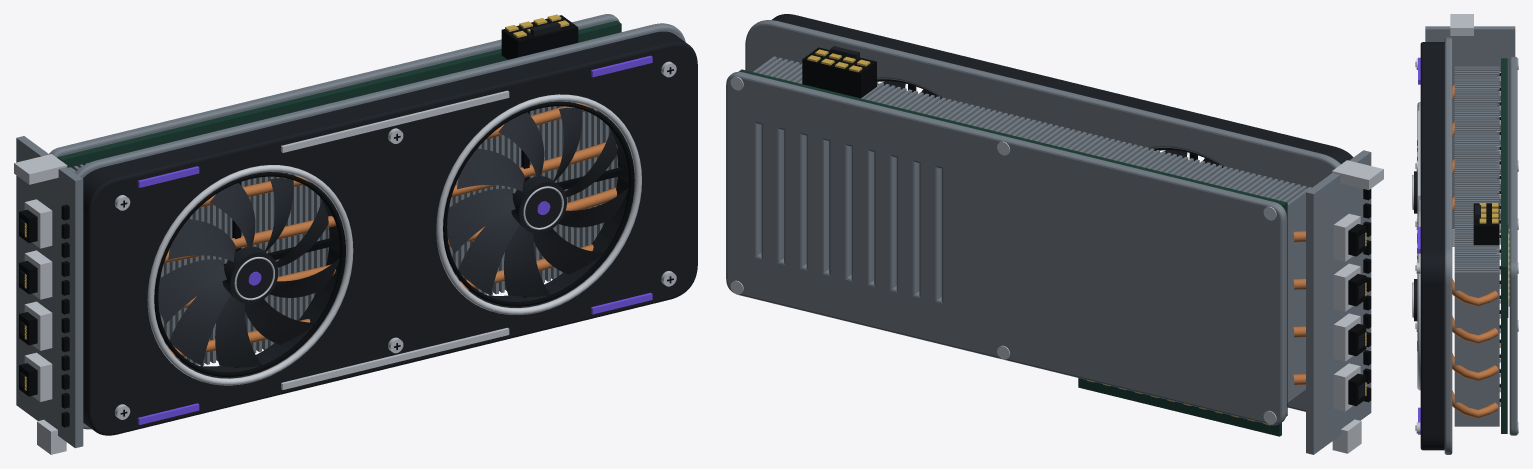
The model's file is nexrig-dual-fan-gpu.glb.
3 renders of one model, left to right at view 1: azimuth 30°, elevation 25°; view 2: azimuth 150°, elevation 25°; view 3: azimuth 270°, elevation 25°, orthographic. The views are drawn at different scales.
Parts seen in each view (by area): view 1: NEXRIG original dual fan GPU, Fan rotor (×2); view 2: NEXRIG original dual fan GPU; view 3: NEXRIG original dual fan GPU.
Boxes of the visible parts, bbox=[...] form: NEXRIG original dual fan GPU: bbox=[14, 14, 697, 454]; Fan rotor (×2): bbox=[158, 107, 628, 367]; NEXRIG original dual fan GPU: bbox=[726, 14, 1383, 454]; NEXRIG original dual fan GPU: bbox=[1412, 14, 1518, 454].
Bounding box in the file's own units: 2.95 × 1.25 × 0.542.
